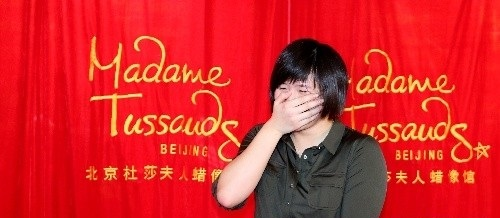face: (273, 75, 322, 131)
